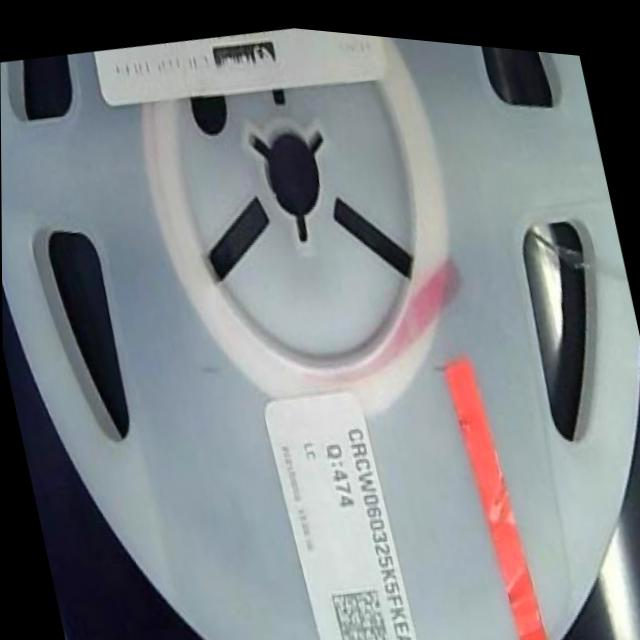datamatrix: (328, 576, 395, 640)
